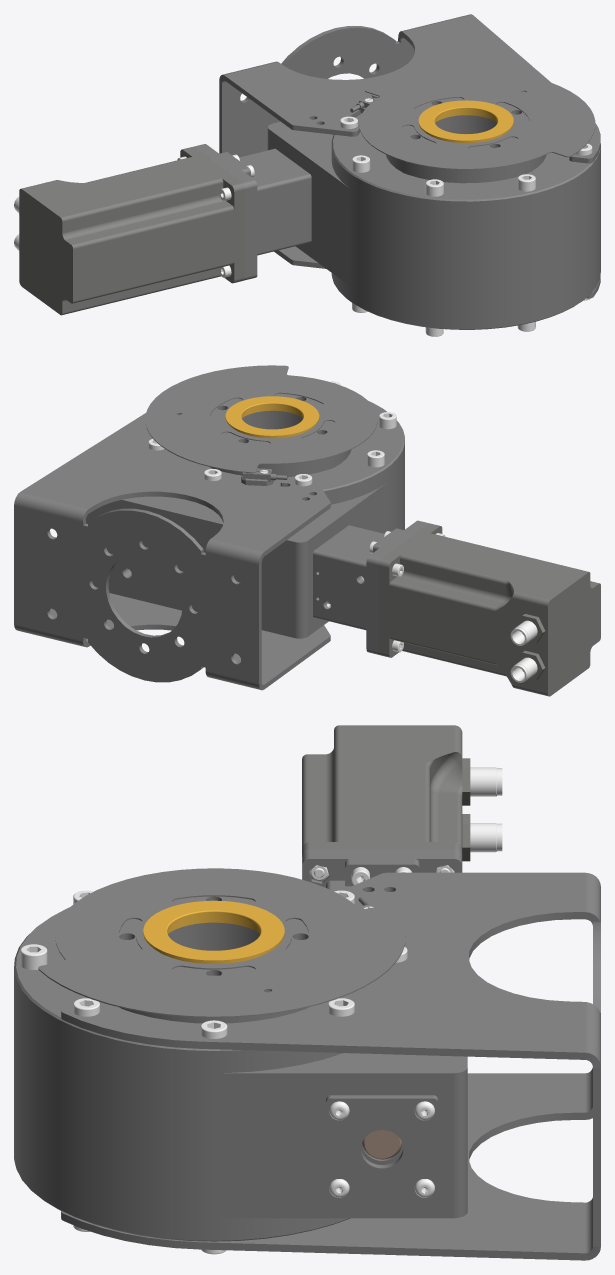
3 renders of one model, top to bottom at view 1: azimuth 30°, elevation 25°; view 2: azimuth 150°, elevation 25°; view 3: azimuth 270°, elevation 25°, orthographic. The views are drawn at different scales.
Parts seen in each view (by area): view 1: J1-ORI.SLDPRT; view 2: J1-ORI.SLDPRT; view 3: J1-ORI.SLDPRT.
Boxes of the visible parts, left/top/right/bottom form: J1-ORI.SLDPRT: left=14, top=14, right=600, bottom=336; J1-ORI.SLDPRT: left=14, top=365, right=600, bottom=696; J1-ORI.SLDPRT: left=14, top=725, right=600, bottom=1260.
Size of the model in its own units: 0.3185 by 0.108 by 0.22.
